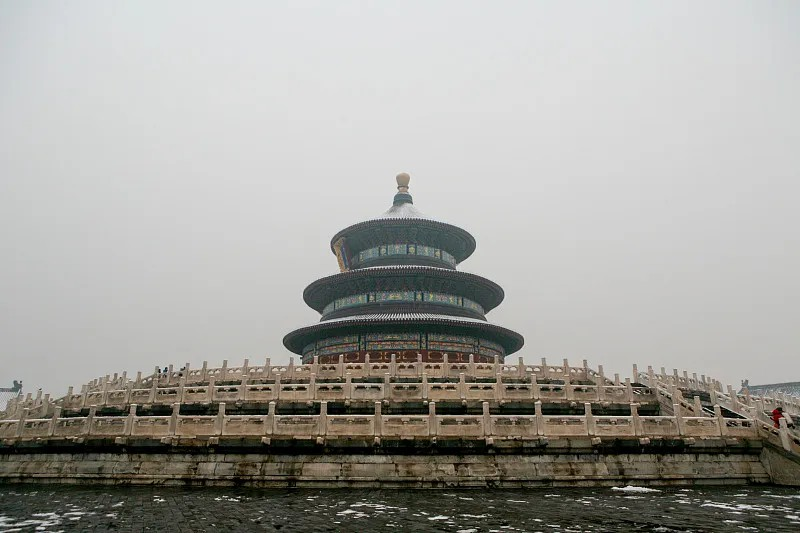Heaven: (282, 172, 523, 365)
